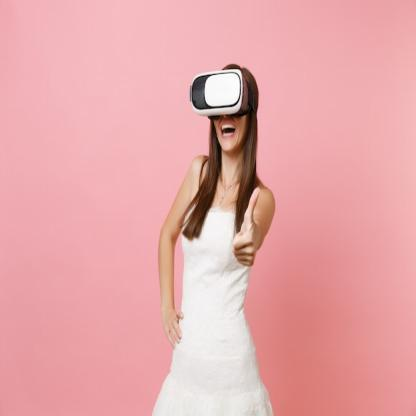thumb_up: (226, 182, 266, 267)
